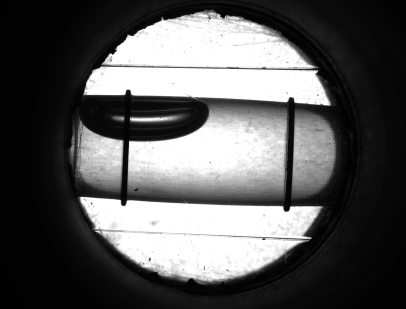line: (279, 112, 301, 193), (116, 145, 132, 188)
